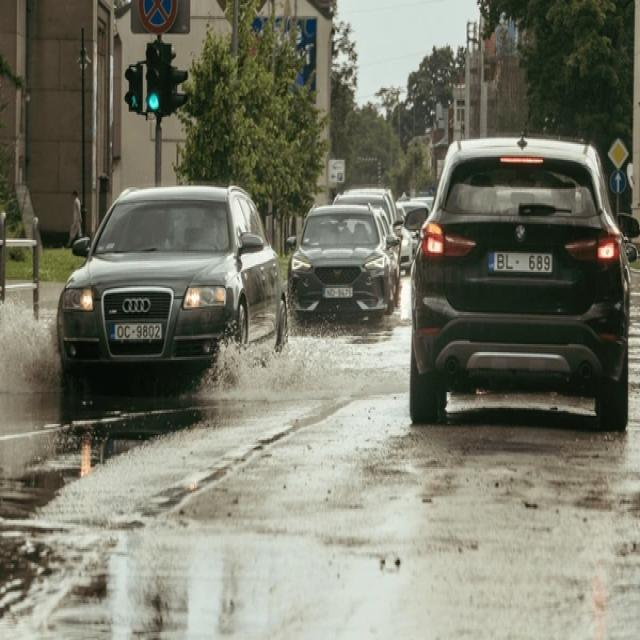audi: (121, 294, 154, 312)
bmw: (512, 224, 532, 245)
cupra: (332, 264, 346, 284)
